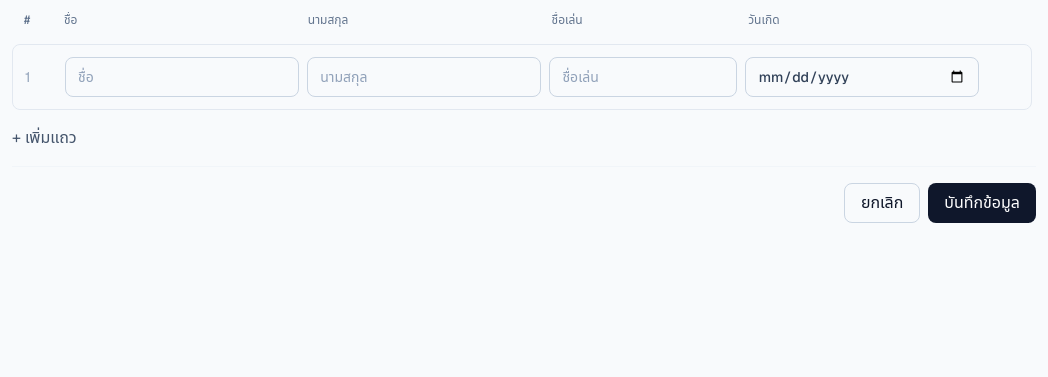
BulkStudentForm › identifies an invalid row without submitting
Click the button "+ เพิ่มแถว". click: (44, 138)
box: [12, 126, 77, 150]
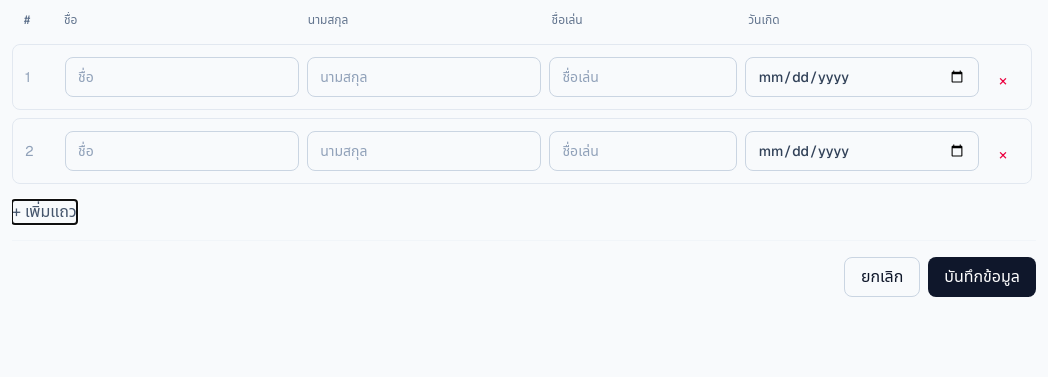
Click the button "บันทึกข้อมูล". click: (982, 277)
box: [928, 257, 1036, 297]
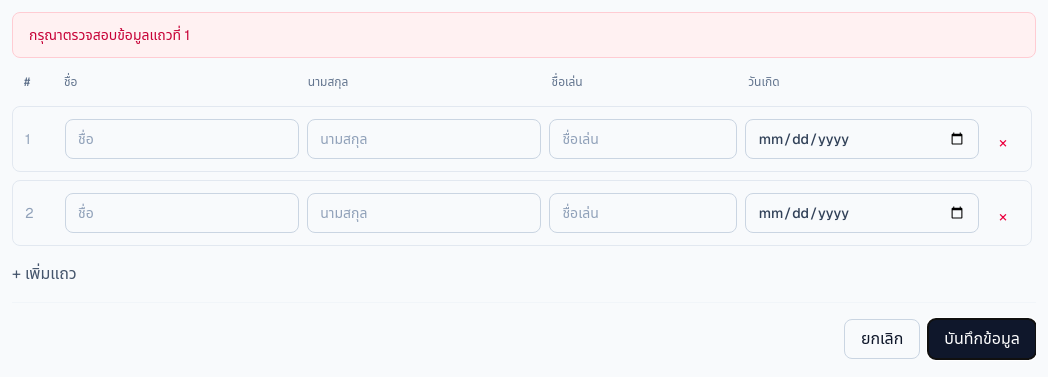
Expected: the message shows "แถวที่ 1", [29, 26, 190, 44]
